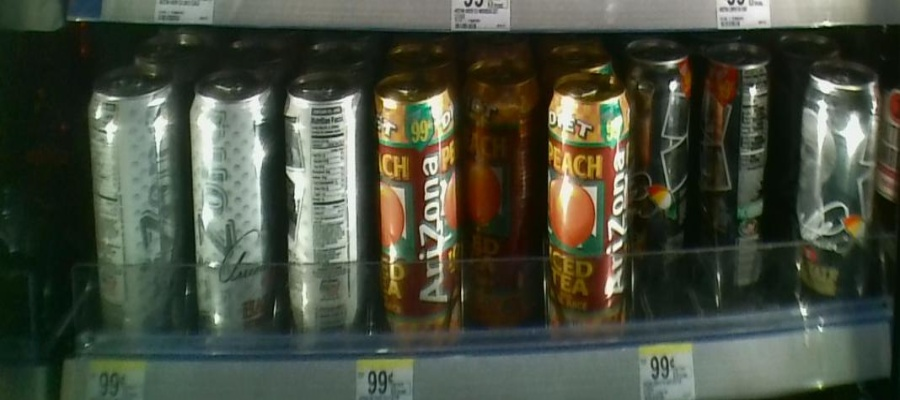bottle: (85, 63, 184, 351), (541, 59, 635, 340), (187, 64, 278, 343), (282, 61, 368, 350), (376, 61, 458, 353), (790, 60, 880, 316), (703, 42, 776, 327), (638, 47, 701, 343), (466, 60, 533, 336)
